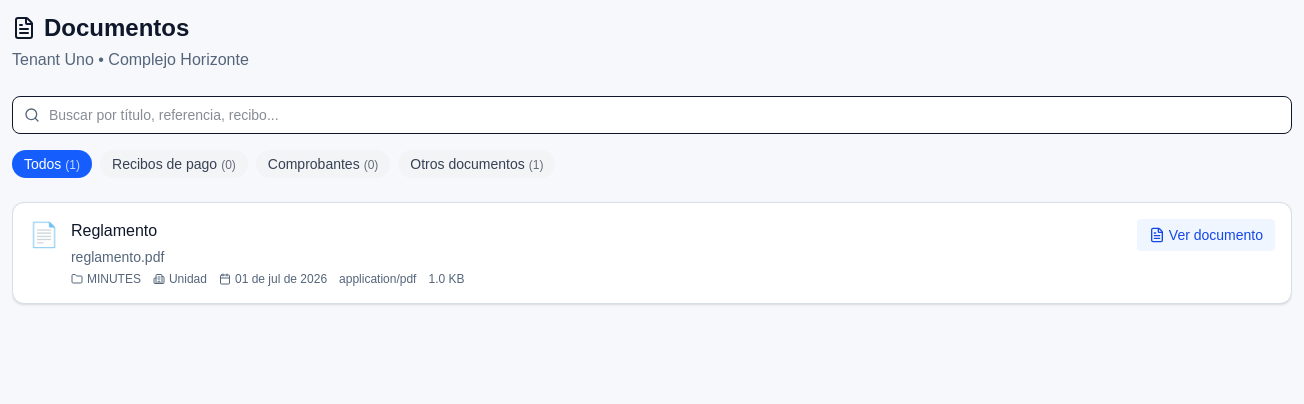
Test: ResidentDocumentsPage › Search › clears search when clicking clear button
Type "xyz" into the field with placeholder "Buscar por título, referencia, recibo...".
click(652, 115); type("xyz")  # box top-left (12, 96), bottom-right (1292, 134)
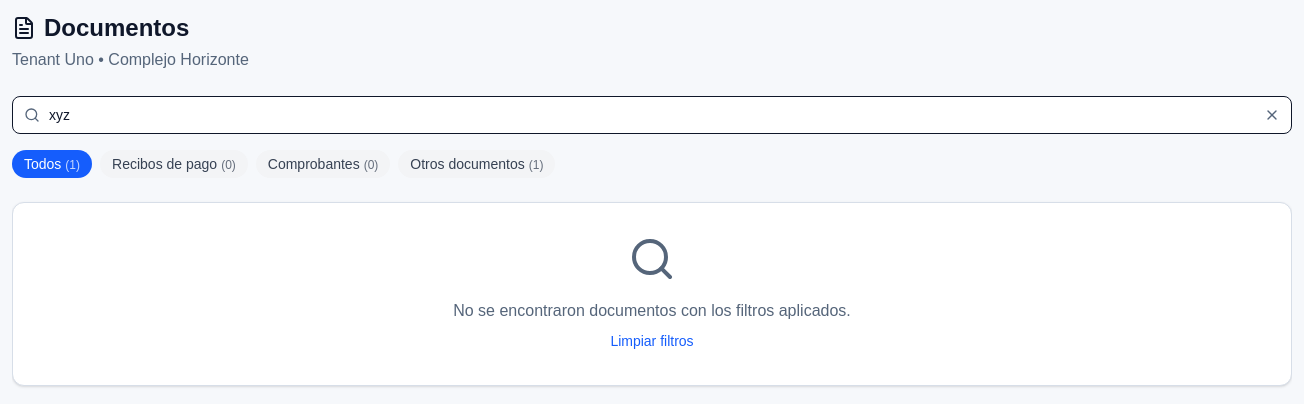
Click the button named "Limpiar búsqueda".
click(1272, 115)  # box top-left (1264, 107), bottom-right (1280, 123)
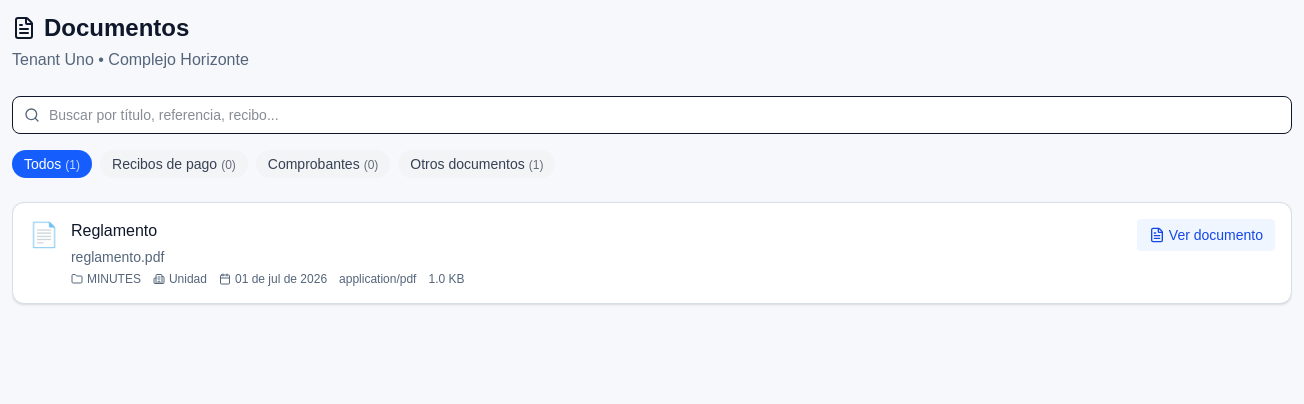
Now the field with placeholder "Buscar por título, referencia, recibo..." is empty, box top-left (12, 96), bottom-right (1292, 134)
